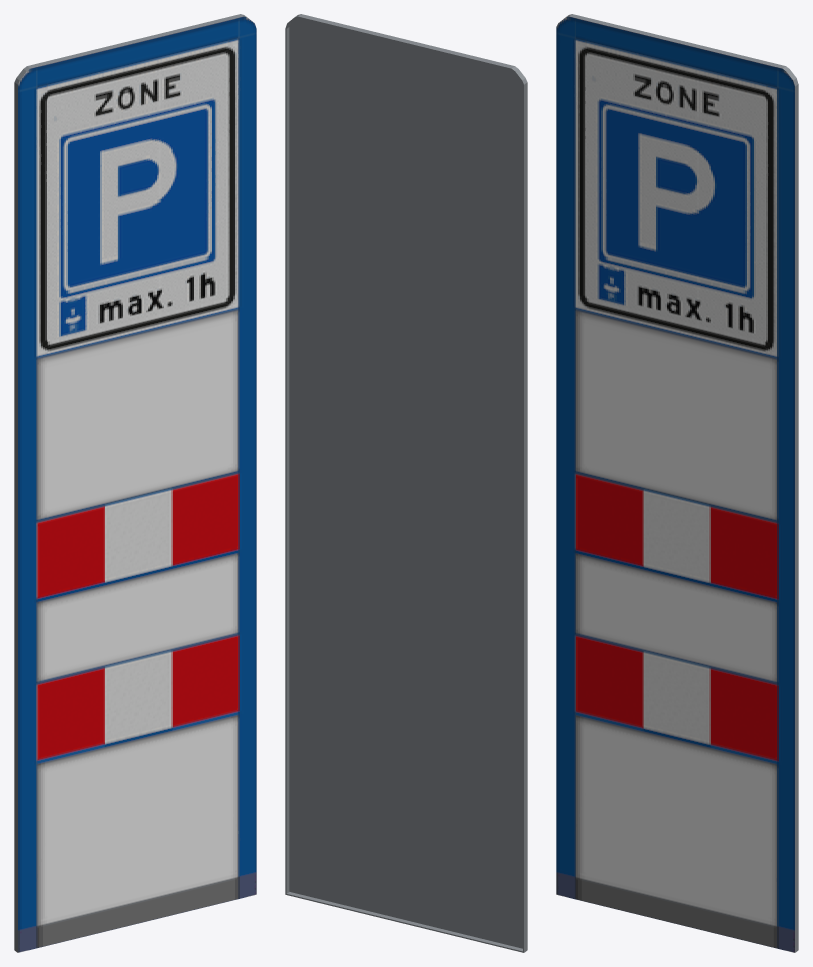
The picture shows the model from 3 angles, left to right: view 1: azimuth 30°, elevation 25°; view 2: azimuth 150°, elevation 25°; view 3: azimuth 330°, elevation 25°; orthographic projection.
Parts seen in each view (by area): view 1: cat_013adfb82a9680ef; view 2: cat_013adfb82a9680ef; view 3: cat_013adfb82a9680ef.
Boxes of the visible parts, x1,y1,x2,y2 form: cat_013adfb82a9680ef: (14, 14, 256, 952); cat_013adfb82a9680ef: (285, 14, 527, 952); cat_013adfb82a9680ef: (556, 14, 798, 952).
Bounding box in the file's own units: 0.6 × 0.015 × 2.12.
2 materials, 1 textured.
